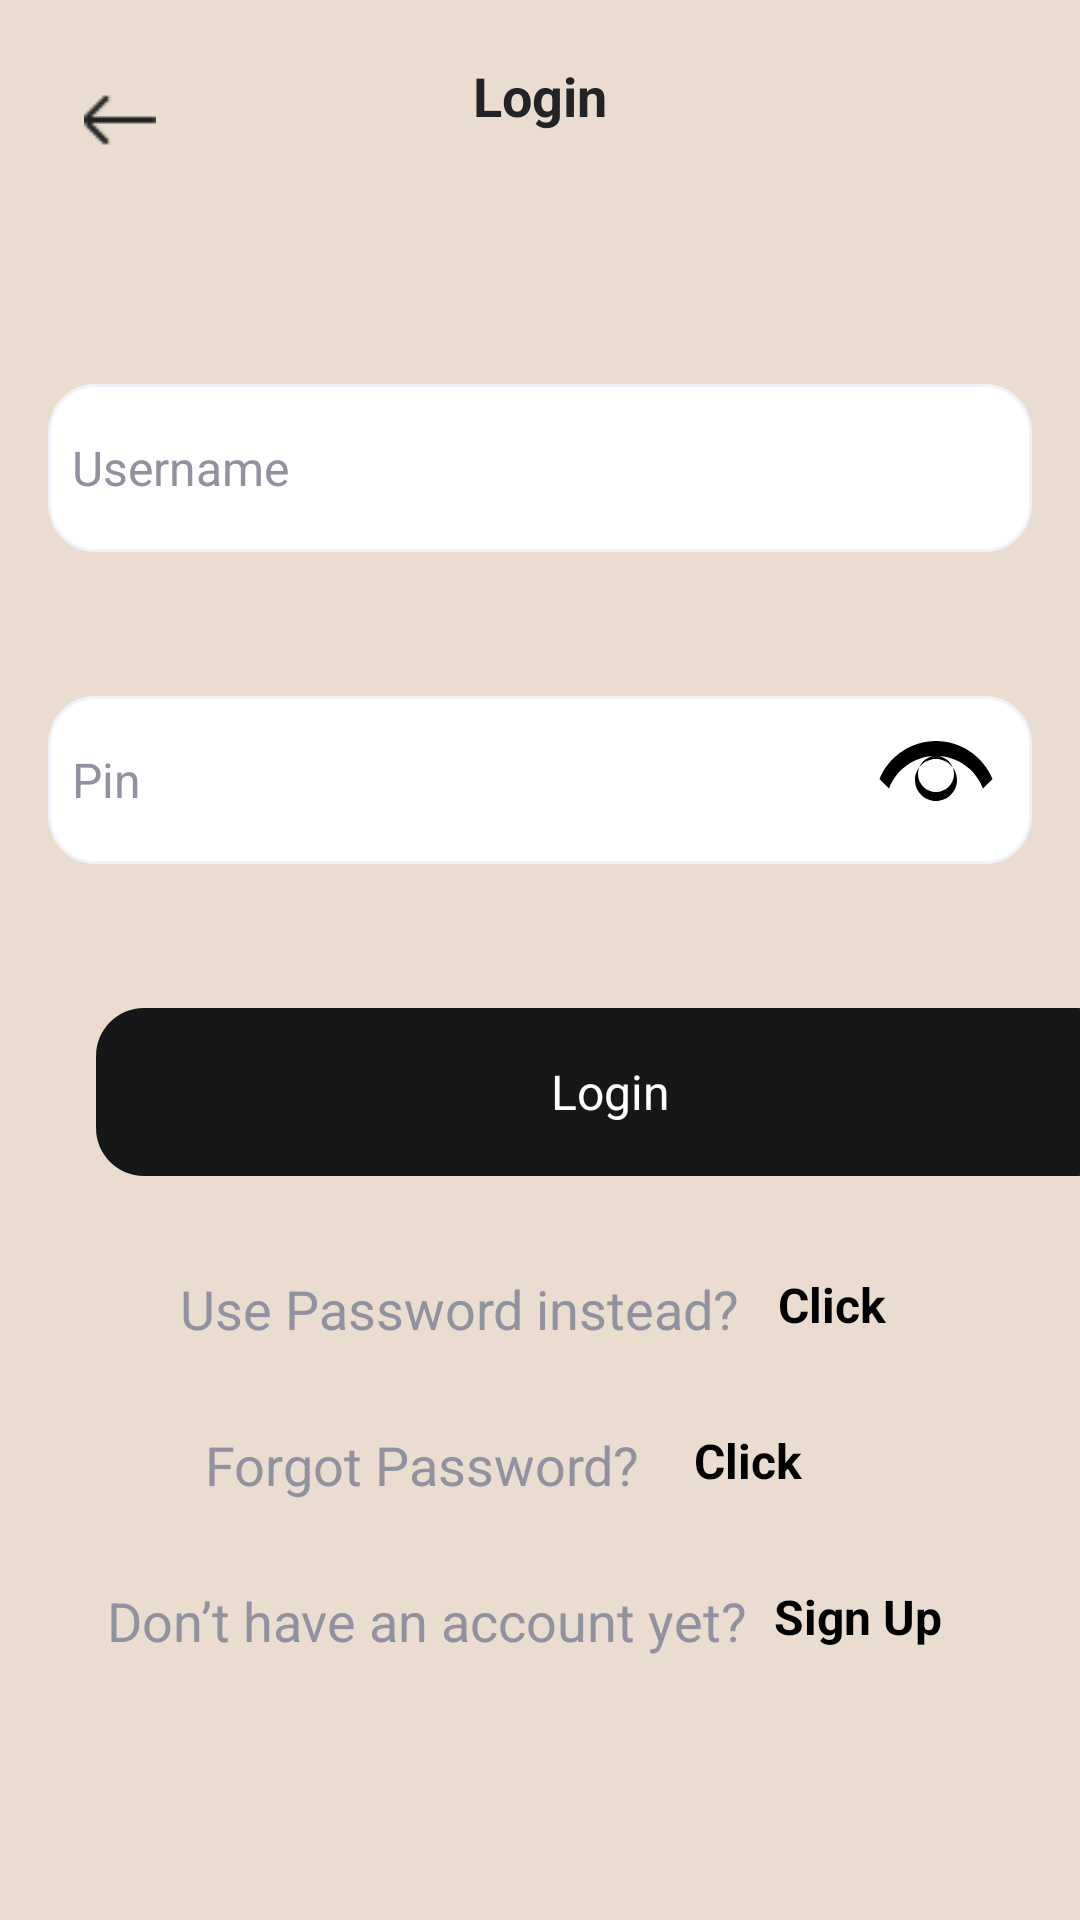

Screen size 1080px x 1920px. Icon name, then its box in pixels as (x1, y1, x2, y2):
back arrow: (84, 95, 156, 145)
eye: (879, 741, 993, 801)
